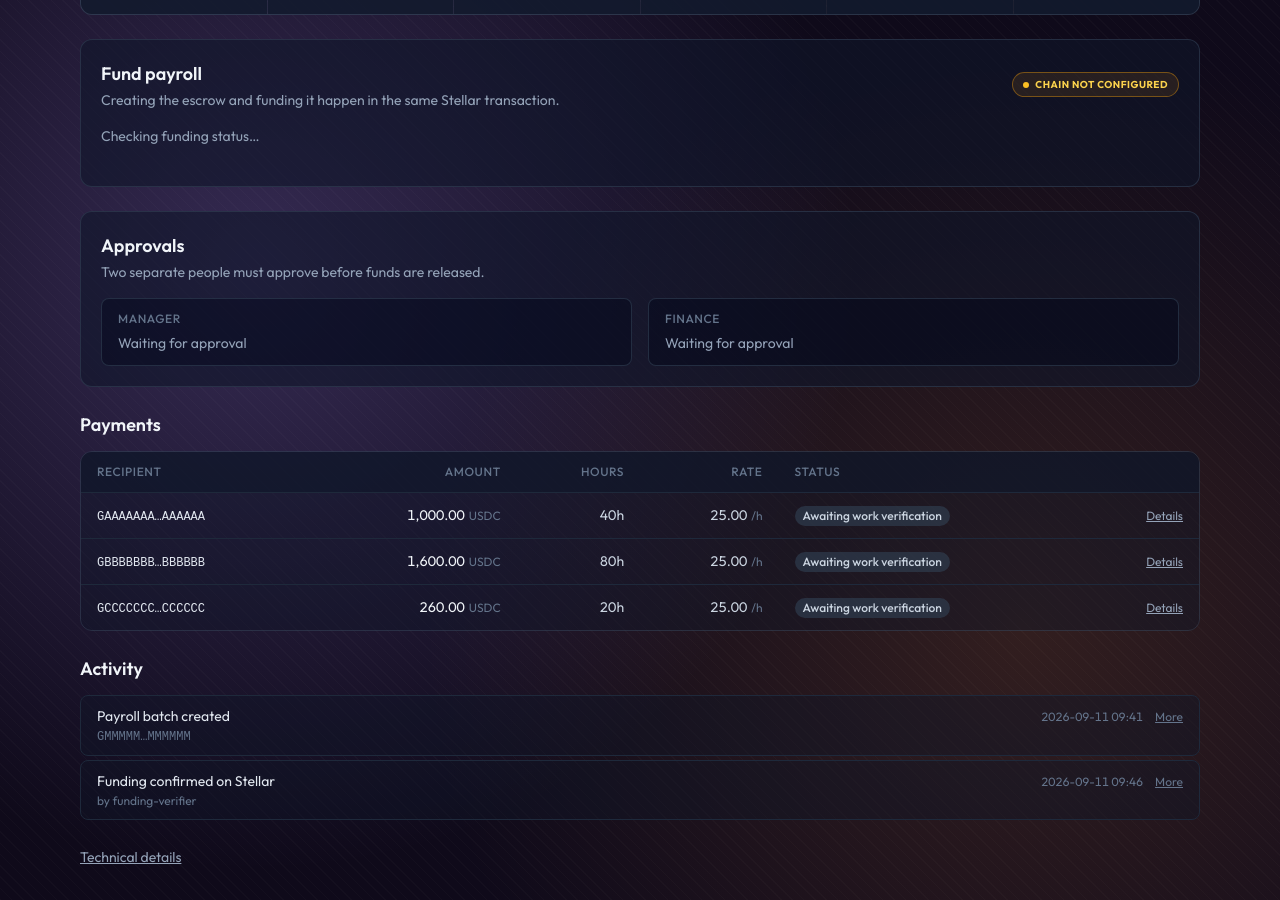
header and summary › renders money as the server formatted it, with no client arithmetic
The image size is (1280, 900).
(page scrolled)
Expected: the text "28600000000" is not shown
Click the button "Technical details": (131, 856) [80, 846, 181, 866]
(page scrolled)
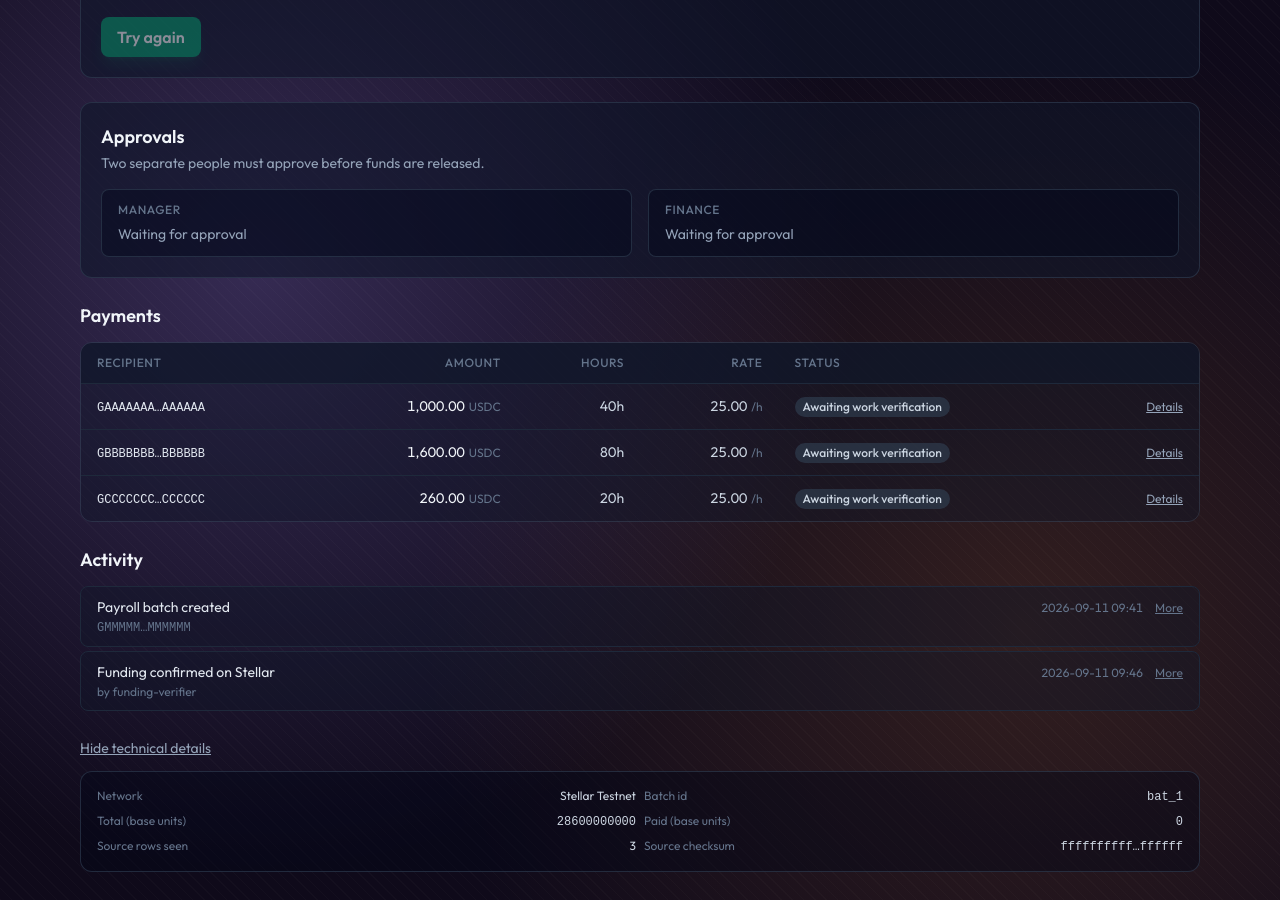
Expected: the text "28600000000" is shown, [557, 814, 636, 828]
